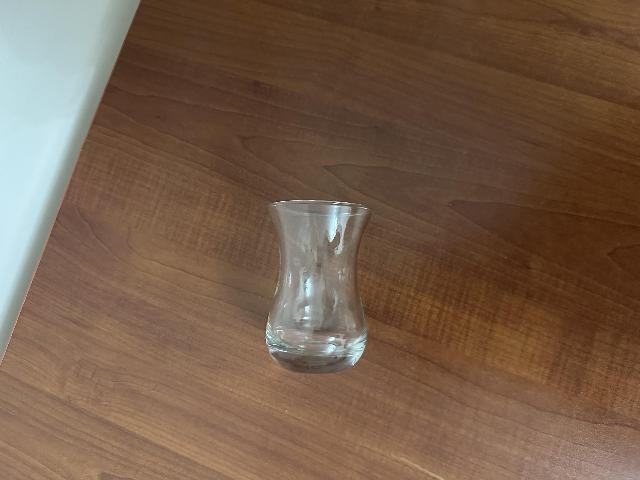Cam: (263, 196, 376, 377)
